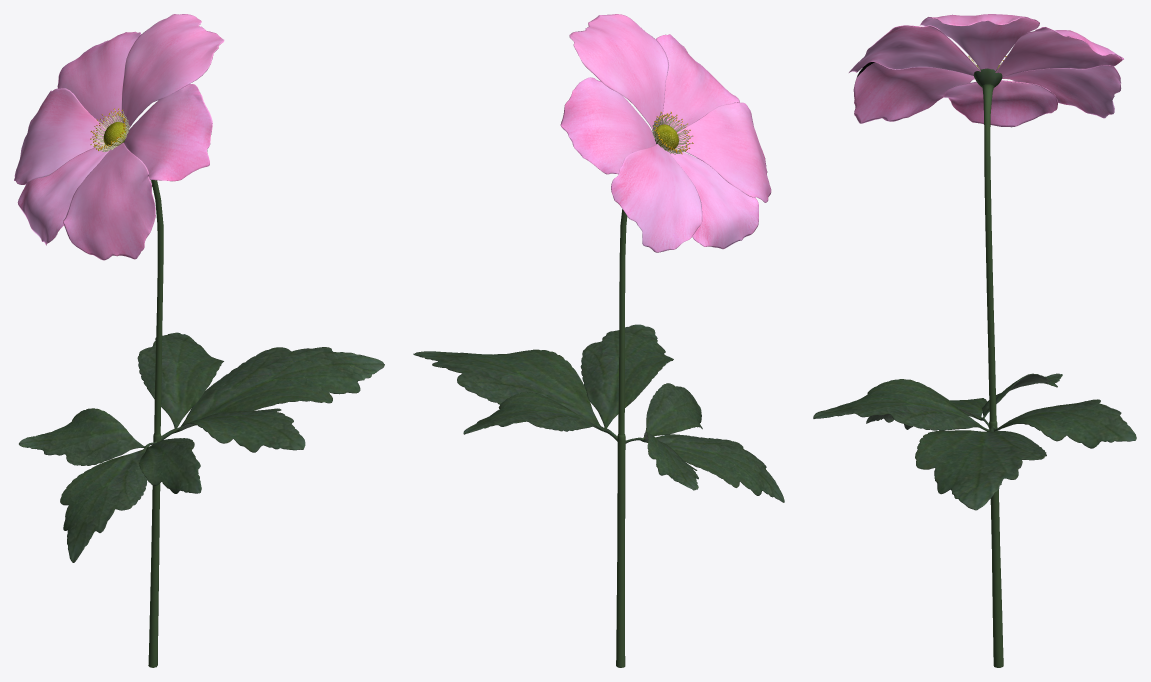
The model's file is anemonepinkcp.glb.
3 renders of one model, left to right at view 1: azimuth 30°, elevation 25°; view 2: azimuth 150°, elevation 25°; view 3: azimuth 270°, elevation 25°, orthographic. The views are drawn at different scales.
Visible parts, largest first — view 1: 12973_anemone_flower_v1_l2; view 2: 12973_anemone_flower_v1_l2; view 3: 12973_anemone_flower_v1_l2.
Part boxes in pixels (x1,y1,x2,y2): 12973_anemone_flower_v1_l2: (14,14,384,667); 12973_anemone_flower_v1_l2: (413,14,784,667); 12973_anemone_flower_v1_l2: (813,14,1136,667).
Bounding box in the file's own units: 2.56 × 4.5 × 1.97.
1 material, 1 textured.
